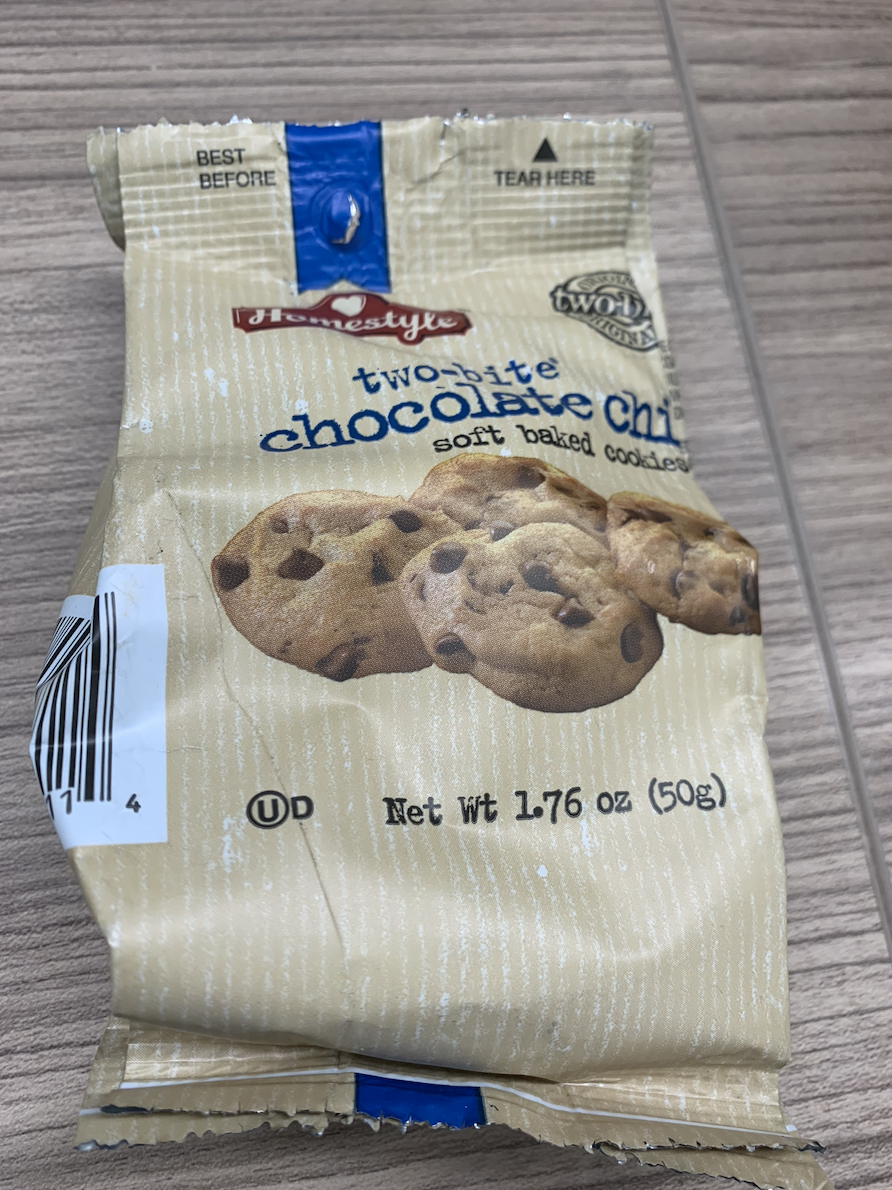cookies_50g: (182, 154, 734, 1076)
